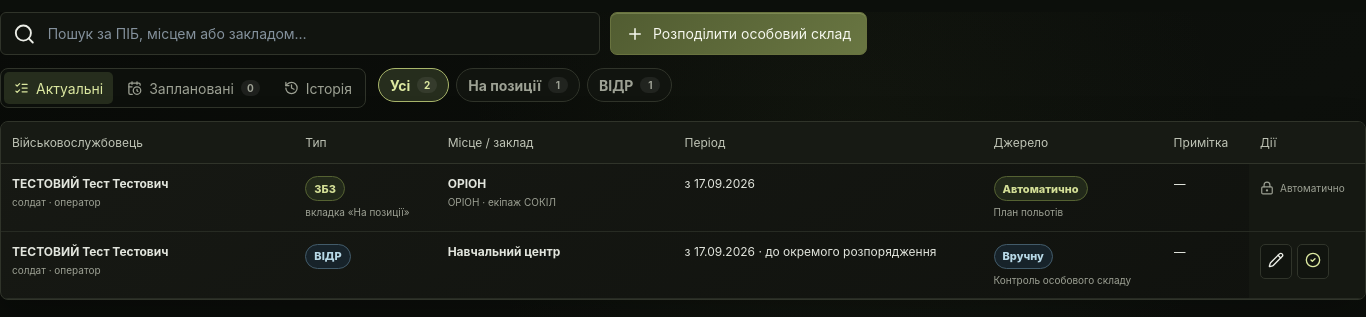
Scenario: PersonnelControl › groups automatic position states while preserving the exact state in the row
The width and height of the screenshot is (1366, 317).
Expected: the text "ЗБЗ" is shown, [305, 176, 345, 201]
Expected: the text "вкладка «На позиції»" is shown, [305, 206, 426, 218]
Click the button "На позиції 1". click: (518, 85)
box: [456, 68, 580, 102]
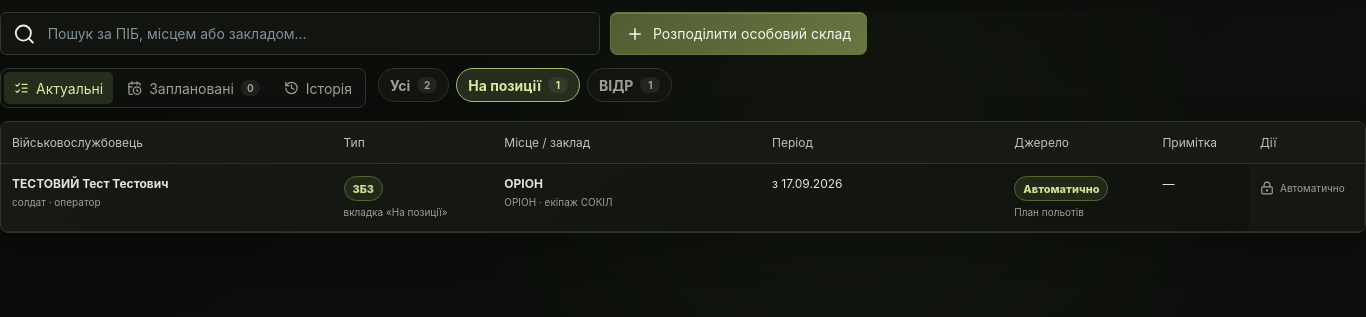
Expected: the text "ОРІОН" is shown, [504, 176, 543, 191]
Expected: the text "Навчальний центр" is gone
